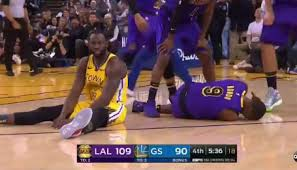10+: (1, 1, 297, 138)
down: (1, 32, 129, 138), (136, 80, 267, 122)
